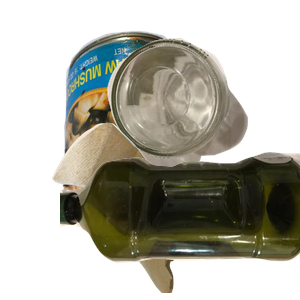glass: (105, 36, 300, 201)
metal: (60, 28, 300, 208)
plastic: (60, 149, 300, 300)
trash: (50, 120, 219, 300)
